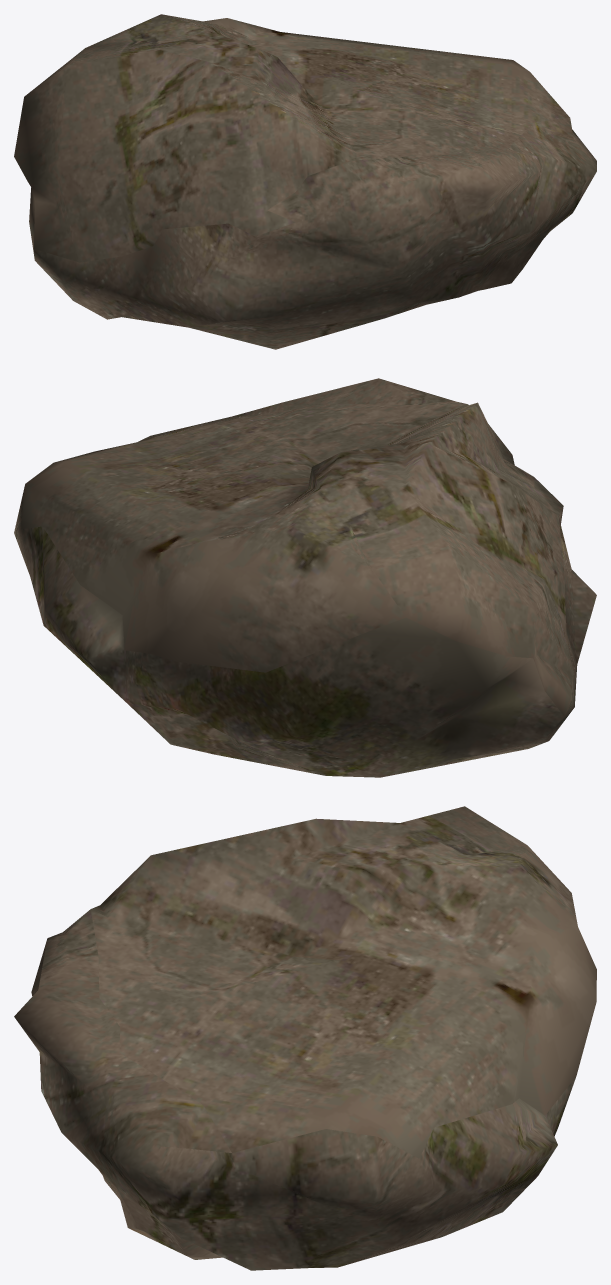
Rendered from Rocks_02.fbx.
3 renders of one model, top to bottom at view 1: azimuth 30°, elevation 25°; view 2: azimuth 150°, elevation 25°; view 3: azimuth 270°, elevation 25°, orthographic. The views are drawn at different scales.
Parts seen in each view (by area): view 1: Asset_Rock; view 2: Asset_Rock; view 3: Asset_Rock.
Part boxes in pixels (bbox=[...]): Asset_Rock: bbox=[14, 14, 596, 349]; Asset_Rock: bbox=[14, 378, 596, 777]; Asset_Rock: bbox=[14, 806, 596, 1270].
Size of the model in its own units: 1.12 by 0.5862 by 0.9342.
1 material, 1 textured.
